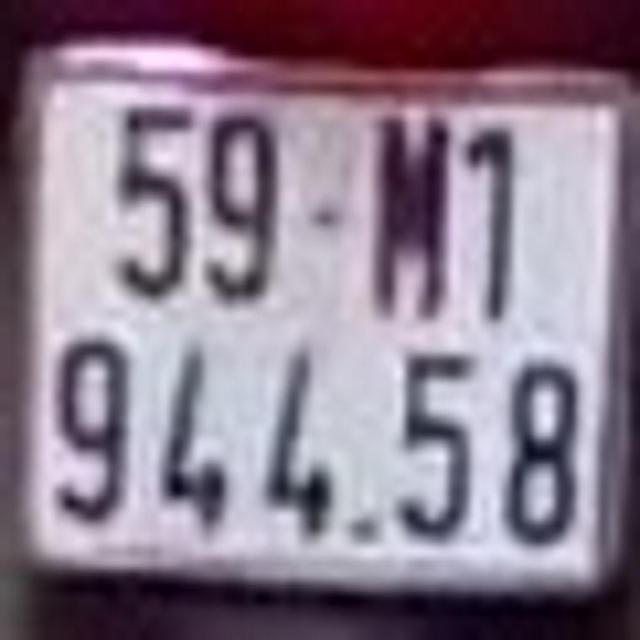1: (464, 131, 508, 320)
4: (263, 348, 332, 538), (167, 360, 227, 524)
5: (112, 108, 190, 300), (401, 350, 472, 530)
8: (508, 360, 567, 538)
9: (207, 114, 275, 304), (61, 344, 128, 520)
M: (375, 116, 449, 318)
